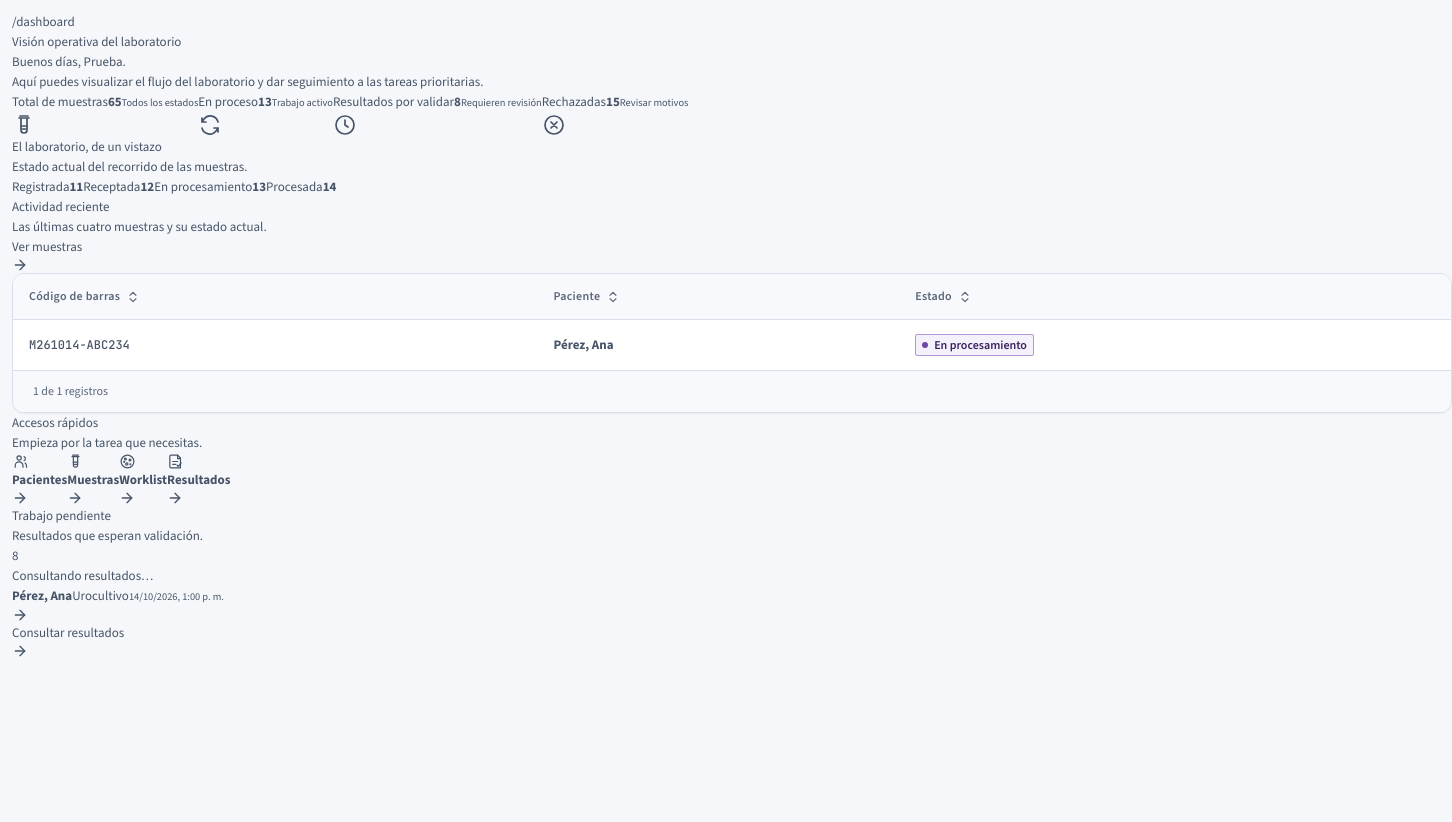
Navegación del Dashboard: BACTERIOLOGO › mantiene la visibilidad, el conteo y el destino del indicador de resultados
Expected: the text "15" is shown, [606,93,620,110]
Click the button with aria-label "Resultados por validar 8".
click(437, 114)  # box [333,92,542,137]
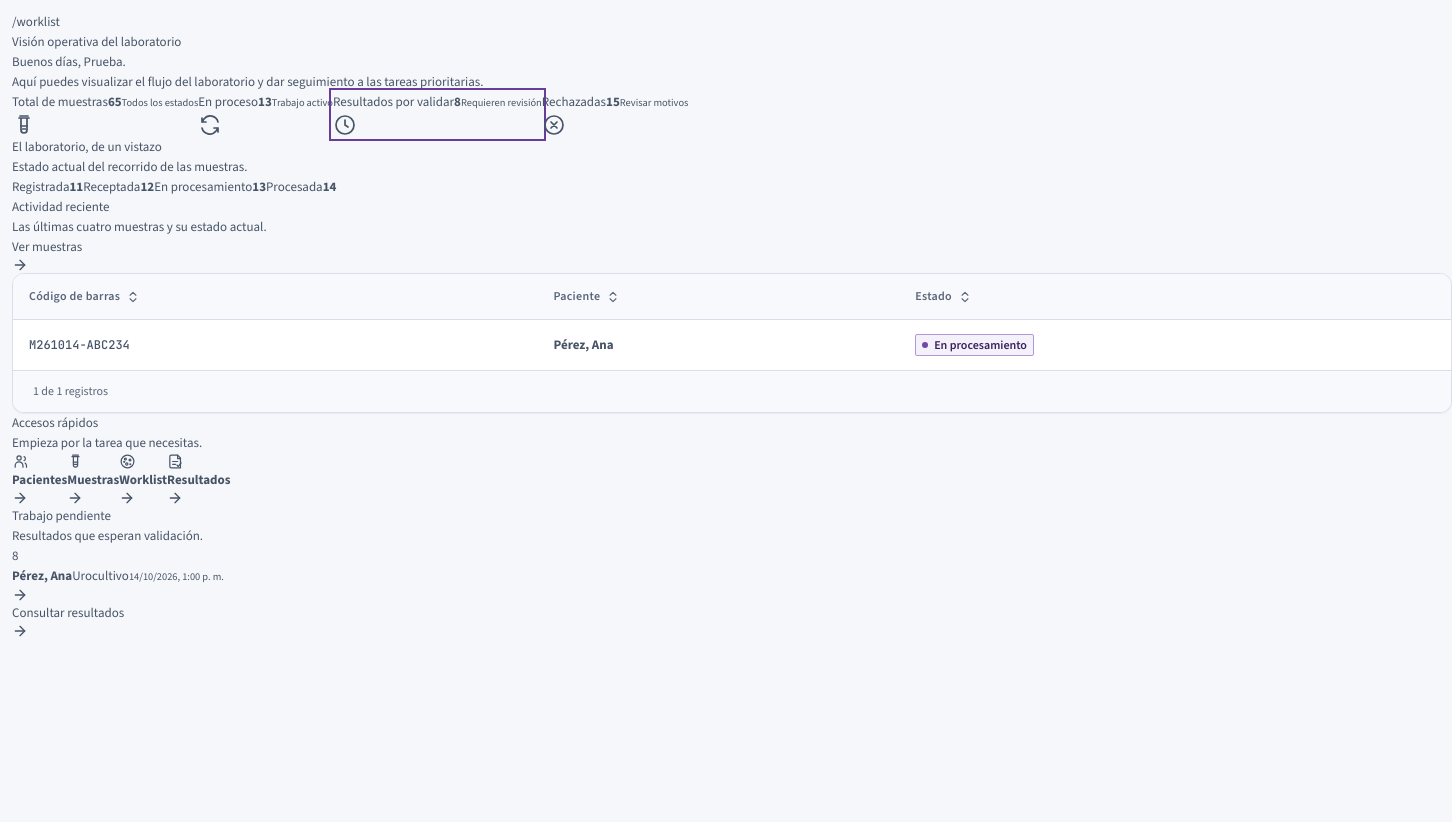
Result: the text named "Ruta actual" reads "/worklist" at [12,13,60,30]
